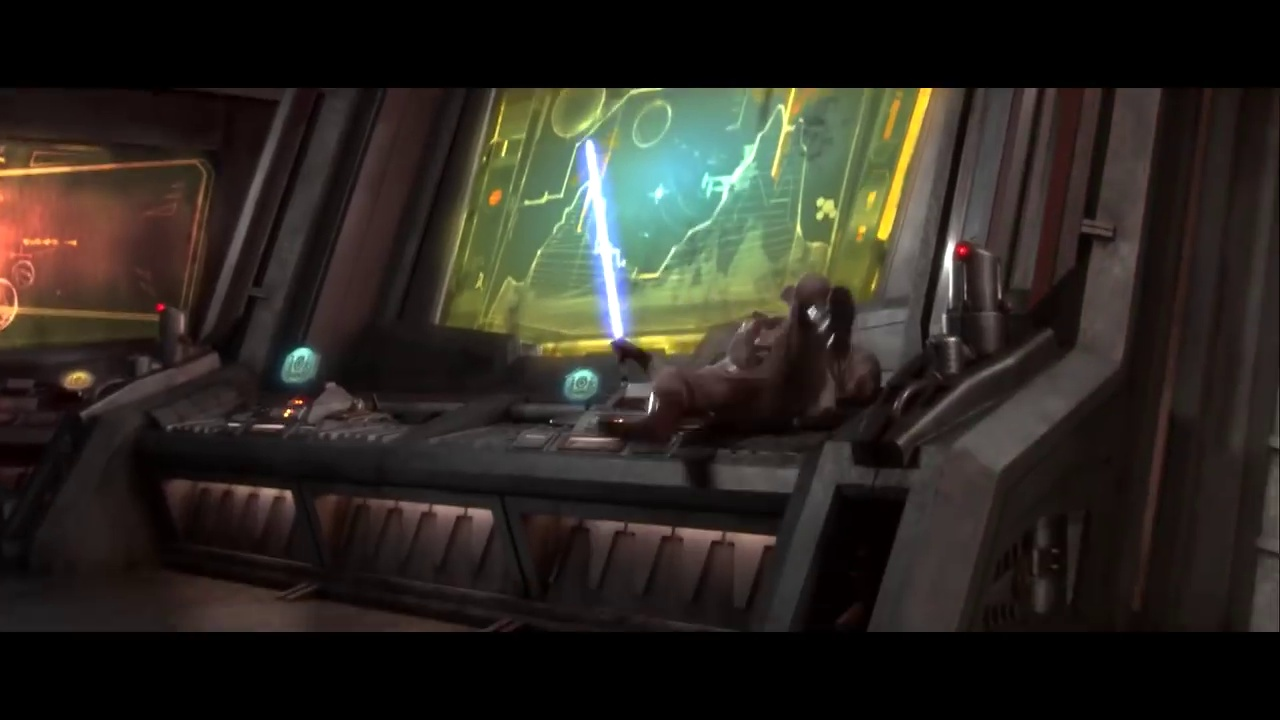lightsaber: (567, 134, 638, 363)
